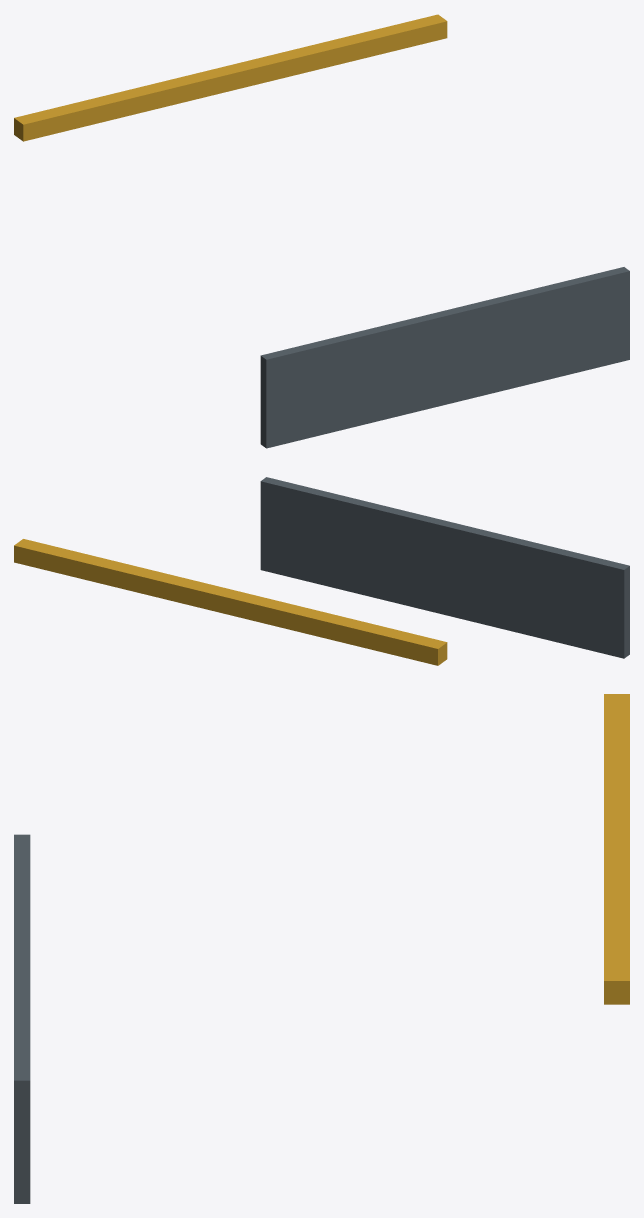
Rendered from cover.generator_block.glb.
The picture shows the model from 3 angles, top to bottom: view 1: azimuth 30°, elevation 25°; view 2: azimuth 150°, elevation 25°; view 3: azimuth 270°, elevation 25°; orthographic projection. The views are drawn at different scales.
Visible parts, largest first — view 1: vent_grille, warning_lip; view 2: vent_grille, warning_lip; view 3: warning_lip, vent_grille.
Boxes of the visible parts, bbox=[...] form: vent_grille: bbox=[260, 267, 629, 448]; warning_lip: bbox=[14, 14, 447, 141]; vent_grille: bbox=[260, 477, 629, 658]; warning_lip: bbox=[14, 539, 447, 665]; warning_lip: bbox=[604, 694, 629, 1004]; vent_grille: bbox=[14, 834, 30, 1203].
Size of what is drawn, in the model's own units: 2.1 by 0.83 by 1.9.
